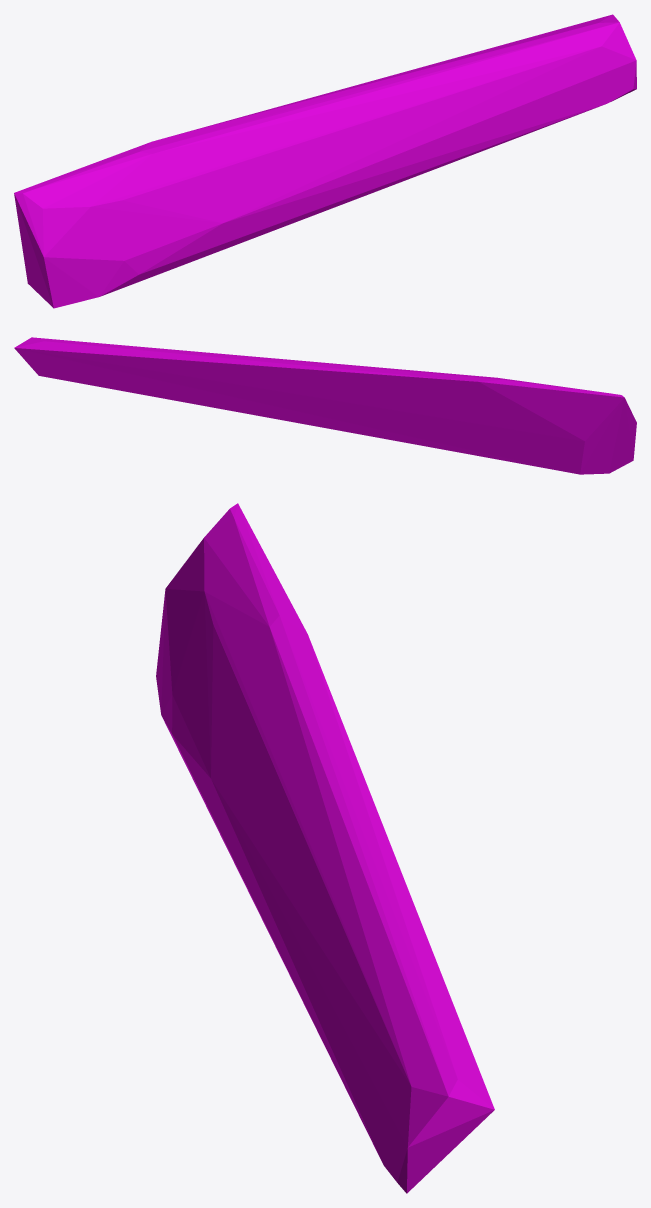
File: arm-L4-mirror_convex_piece_002.obj
The picture shows the model from 3 angles, top to bottom: view 1: azimuth 30°, elevation 25°; view 2: azimuth 150°, elevation 25°; view 3: azimuth 270°, elevation 25°; orthographic projection. The views are drawn at different scales.
Size of the model in its own units: 0.2767 by 0.0396 by 0.0743.
